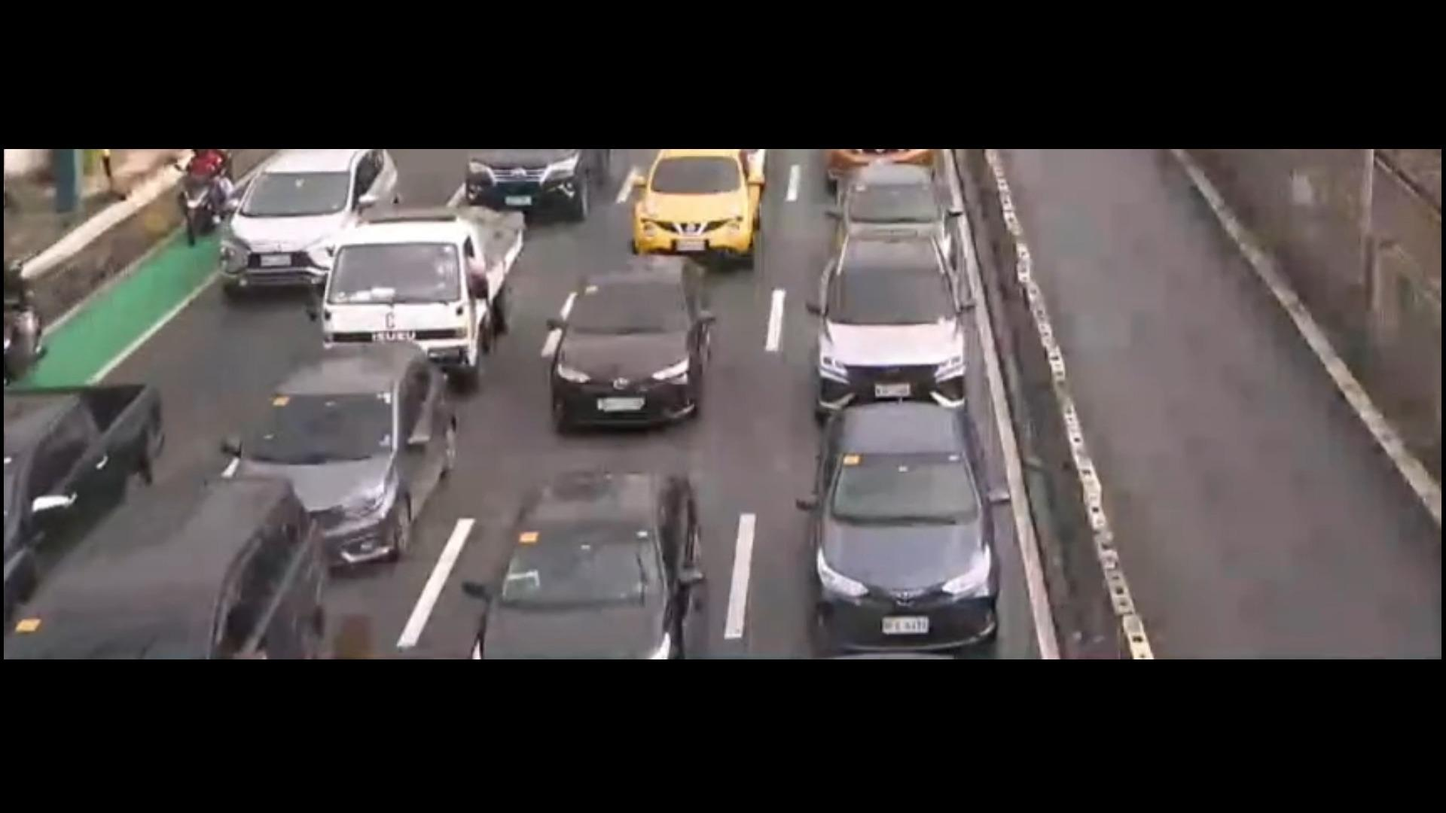SUV: (3, 479, 318, 672), (806, 235, 969, 410), (215, 149, 400, 301), (819, 152, 959, 281), (631, 155, 762, 267)
Sedan: (212, 345, 455, 570), (453, 467, 709, 664), (806, 405, 1003, 654), (547, 255, 705, 429)
Truck: (323, 199, 526, 388)
